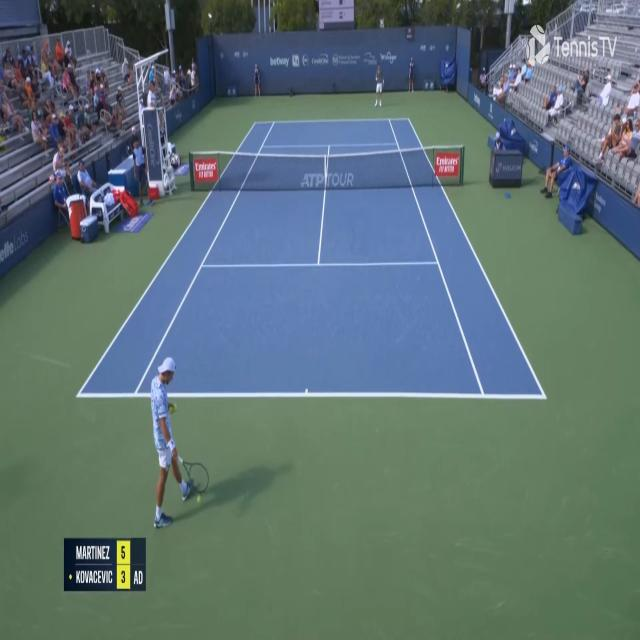tennis-player: (148, 350, 215, 532), (373, 60, 386, 109)
